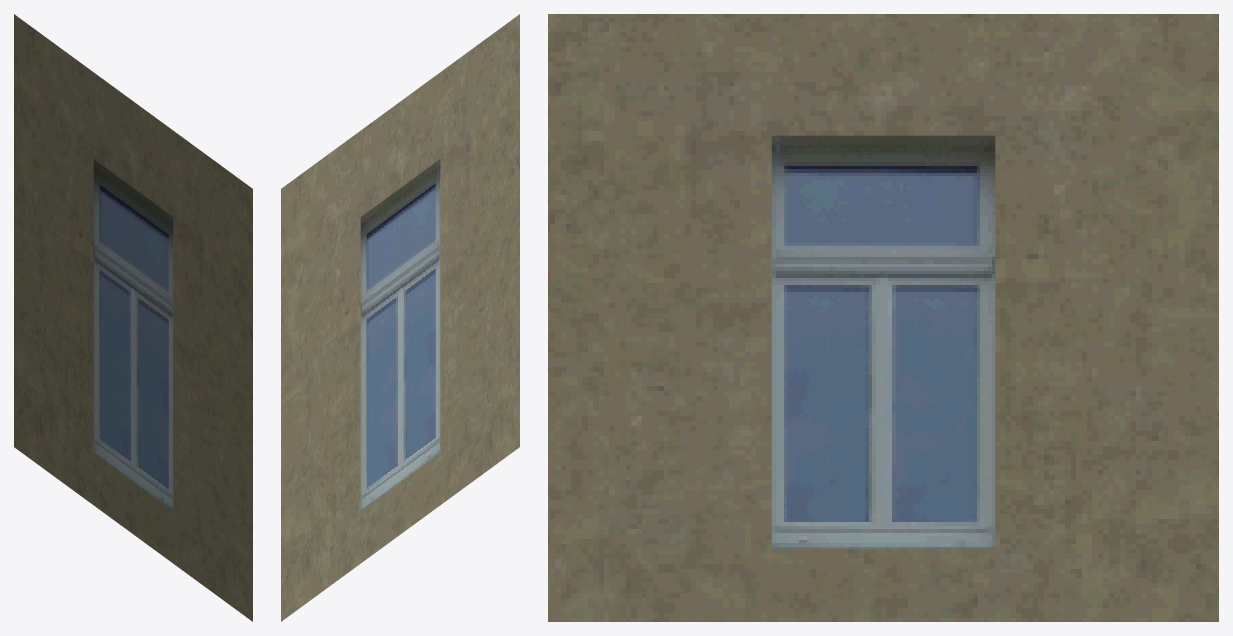
File: stuco_wall_window_1.glb
3 views of the same model, side by side, from view 1: azimuth 30°, elevation 25°; view 2: azimuth 150°, elevation 25°; view 3: azimuth 270°, elevation 25° (orthographic). The views are drawn at different scales.
Parts seen in each view (by area): view 1: stuco_wall_window_1; view 2: stuco_wall_window_1; view 3: stuco_wall_window_1.
Boxes of the visible parts, x1,y1,x2,y2 form: stuco_wall_window_1: (14,14,252,621); stuco_wall_window_1: (281,14,519,621); stuco_wall_window_1: (548,14,1218,621).
Size of the model in its own units: 0 by 3 by 3.
1 material, 1 textured.
